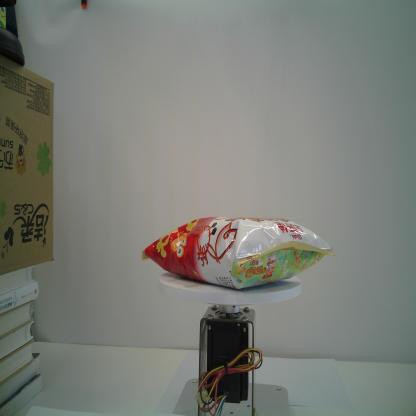Puffed Food: (137, 211, 336, 295)
